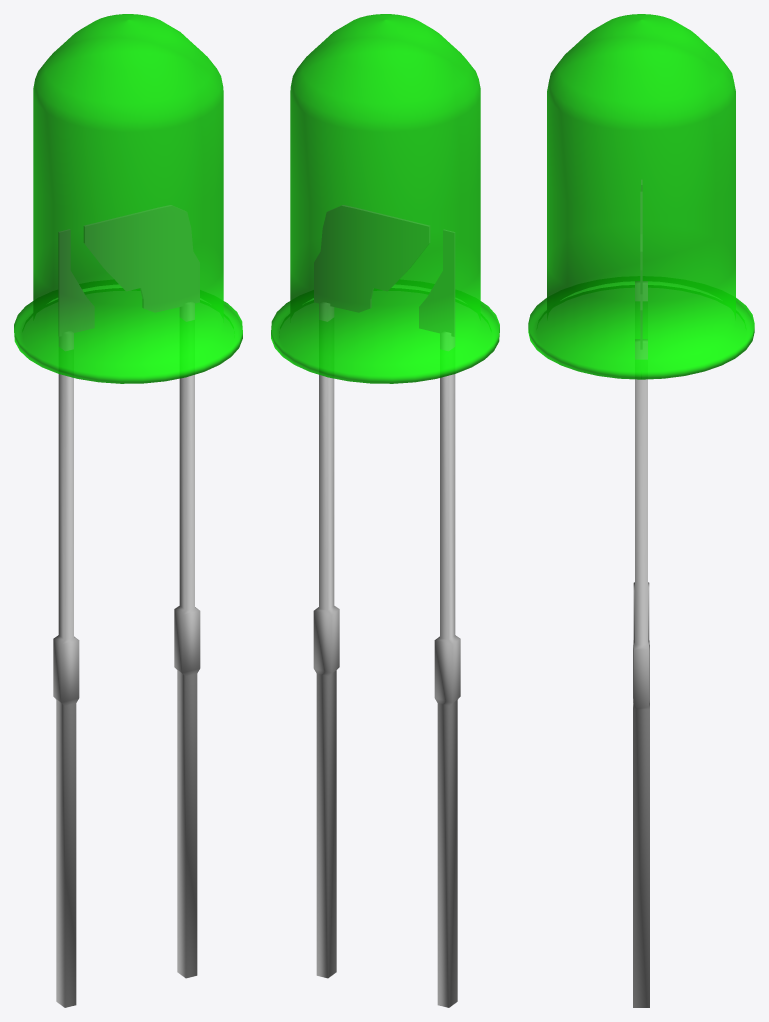
Rendered from LedGreen.fbx.
The picture shows the model from 3 angles, left to right: view 1: azimuth 30°, elevation 25°; view 2: azimuth 150°, elevation 25°; view 3: azimuth 270°, elevation 25°; orthographic projection.
Visible parts, largest first — view 1: Cylinder, Cube.003, Cube, Cube.002, Cube.001; view 2: Cylinder, Cube.003, Cube, Cube.002, Cube.001; view 3: Cylinder, Cube, Cube.003.
Part boxes in pixels (x1,y1,x2,y2): Cylinder: (14, 14, 242, 383); Cube.003: (53, 331, 79, 1007); Cube: (174, 302, 200, 978); Cube.002: (84, 205, 199, 312); Cube.001: (58, 229, 94, 336); Cylinder: (271, 14, 499, 383); Cube.003: (434, 331, 460, 1007); Cube: (313, 302, 339, 978); Cube.002: (314, 205, 429, 312); Cube.001: (419, 230, 454, 336); Cylinder: (528, 14, 754, 379); Cube: (633, 339, 649, 1007); Cube.003: (633, 281, 649, 702).
Bounding box in the file's own units: 19.02 × 88.66 × 19.02.
